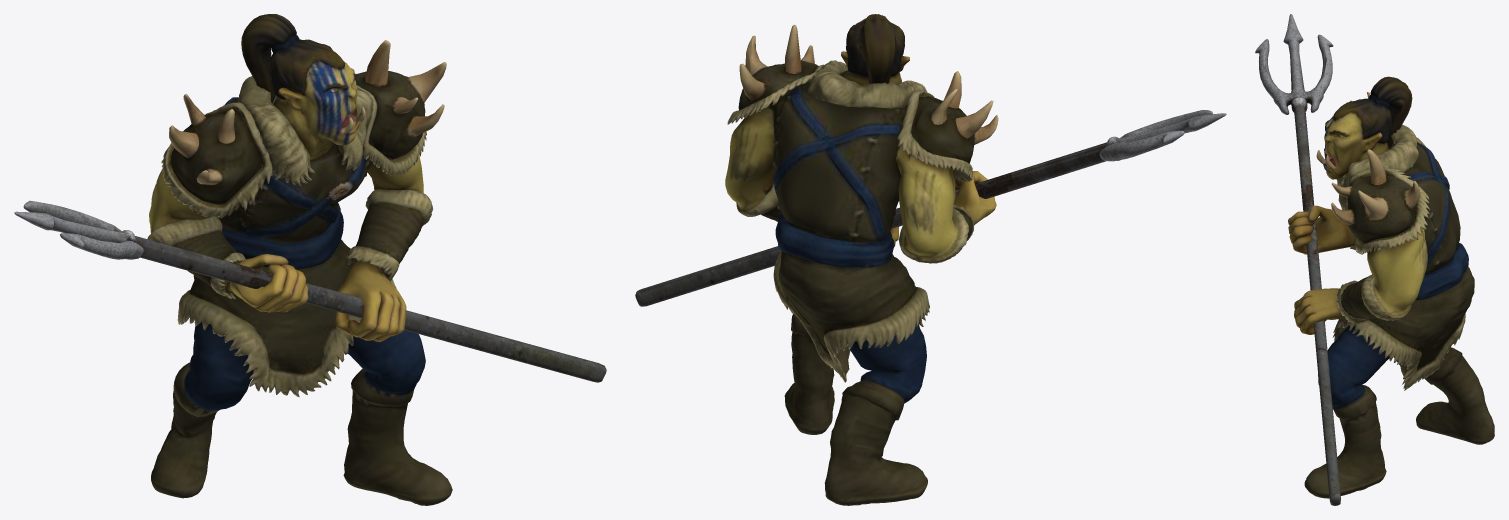
File: MZ4250 - Orc Male Warrior_blue_trident.glb
3 views of the same model, side by side, from view 1: azimuth 30°, elevation 25°; view 2: azimuth 150°, elevation 25°; view 3: azimuth 270°, elevation 25° (orthographic). The views are drawn at different scales.
Parts seen in each view (by area): view 1: Trident2.001; view 2: Trident2.001; view 3: Trident2.001.
Part boxes in pixels (box(x1,y1,x2,y2)): Trident2.001: box(14, 14, 606, 505); Trident2.001: box(635, 14, 1226, 505); Trident2.001: box(1255, 14, 1494, 505).
Size of the model in its own units: 52.56 by 39.09 by 22.87.
2 materials, 2 textured.
